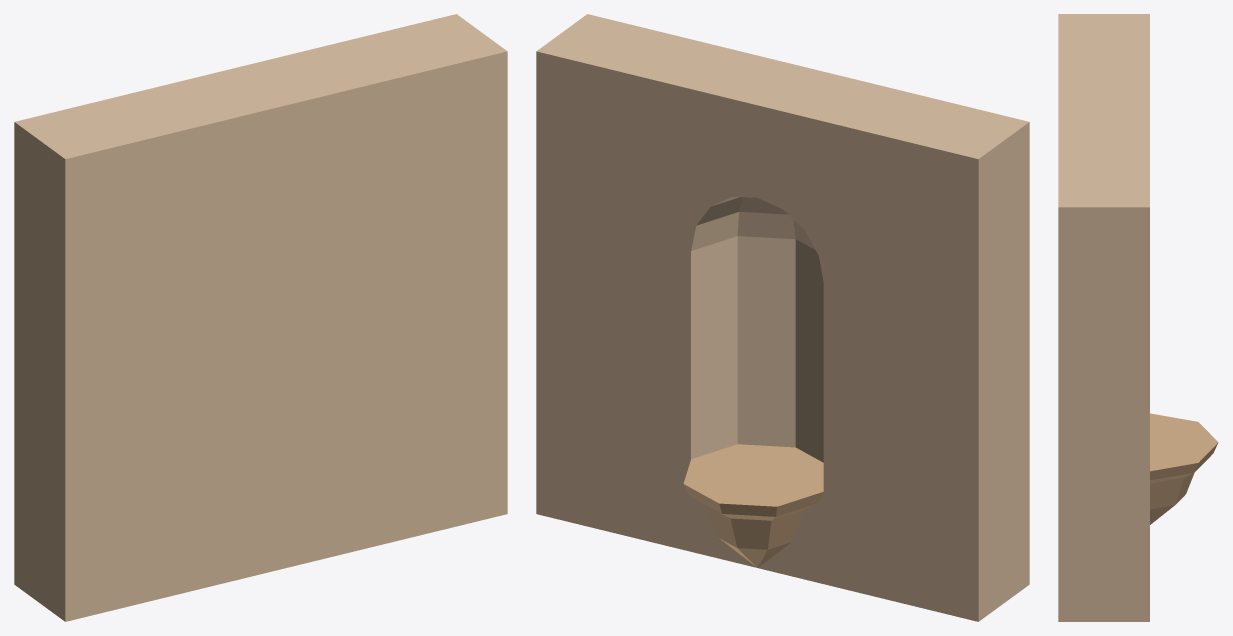
Rendered from Wall_Straight_Cubby.fbx.
3 views of the same model, side by side, from view 1: azimuth 30°, elevation 25°; view 2: azimuth 150°, elevation 25°; view 3: azimuth 270°, elevation 25° (orthographic). The views are drawn at different scales.
Parts seen in each view (by area): view 1: Sandstone_Trim.Sandstone_Trim.Sandstone_Trim.Sandstone_Trim.; view 2: Sandstone_Trim.Sandstone_Trim.Sandstone_Trim.Sandstone_Trim., Sandstone_4.Sandstone_4.Sandstone_4.Sandstone_4; view 3: Sandstone_Trim.Sandstone_Trim.Sandstone_Trim.Sandstone_Trim., Sandstone_4.Sandstone_4.Sandstone_4.Sandstone_4.
Boxes of the visible parts, x1,y1,x2,y2 form: Sandstone_Trim.Sandstone_Trim.Sandstone_Trim.Sandstone_Trim.: (14,14,507,621); Sandstone_Trim.Sandstone_Trim.Sandstone_Trim.Sandstone_Trim.: (536,14,1029,621); Sandstone_4.Sandstone_4.Sandstone_4.Sandstone_4: (683,444,823,567); Sandstone_Trim.Sandstone_Trim.Sandstone_Trim.Sandstone_Trim.: (1058,14,1149,621); Sandstone_4.Sandstone_4.Sandstone_4.Sandstone_4: (1150,413,1218,524).
Bounding box in the file's own units: 1 × 1 × 0.35.
